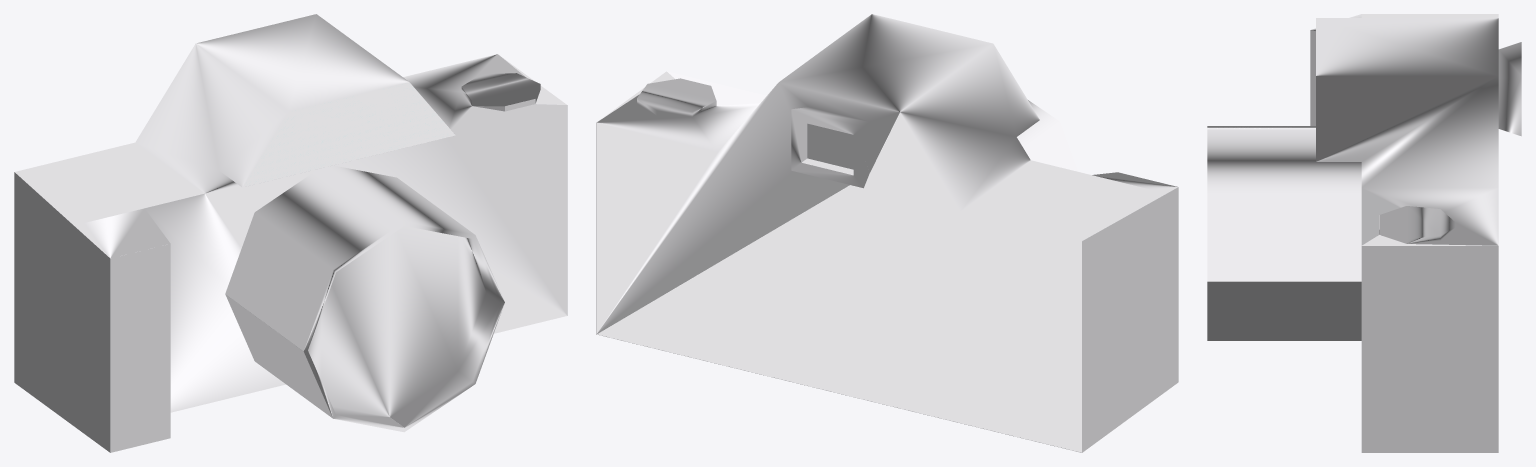
Rendered from model_align.obj.
3 views of the same model, side by side, from view 1: azimuth 30°, elevation 25°; view 2: azimuth 150°, elevation 25°; view 3: azimuth 270°, elevation 25° (orthographic). The views are drawn at different scales.
Size of the model in its own units: 0.1507 by 0.0879 by 0.0863.
Materials: 4 (4 with a texture image).
